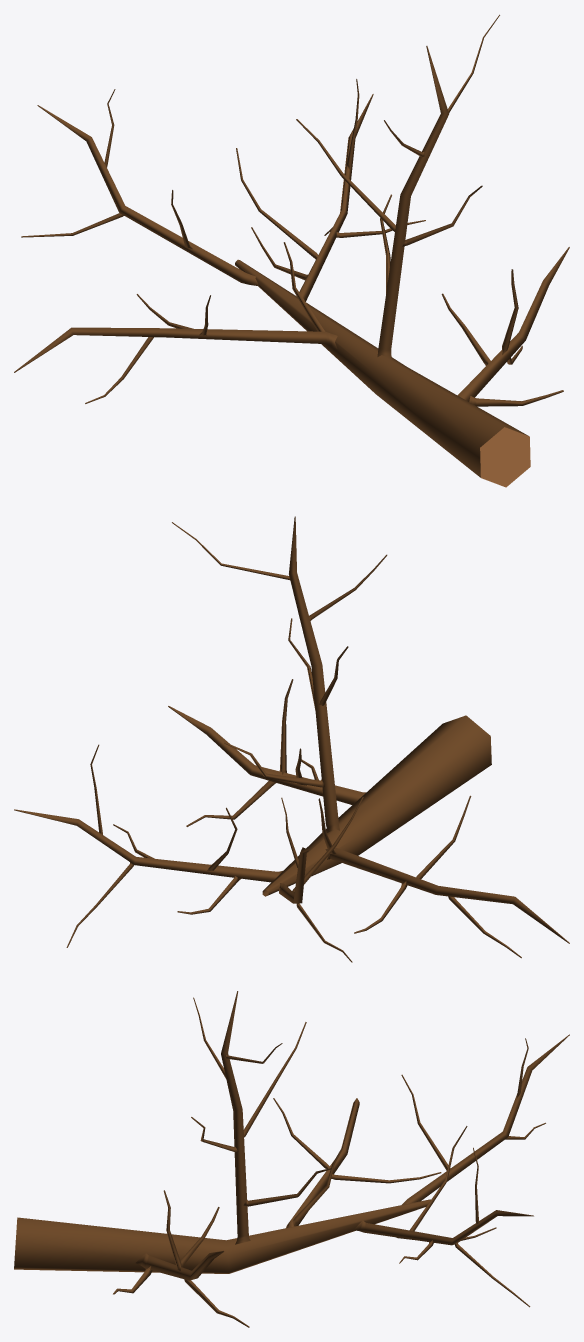
Rendered from Branch_1.glb.
3 renders of one model, top to bottom at view 1: azimuth 30°, elevation 25°; view 2: azimuth 150°, elevation 25°; view 3: azimuth 270°, elevation 25°, orthographic. The views are drawn at different scales.
Visible parts, largest first — view 1: Branch_1; view 2: Branch_1; view 3: Branch_1.
Part boxes in pixels (x1,y1,x2,y2): Branch_1: [14, 14, 569, 487]; Branch_1: [14, 516, 569, 962]; Branch_1: [14, 991, 569, 1327].
Size of the model in its own units: 2.28 by 1.54 by 2.59.
Materials: 1 (1 with a texture image).
